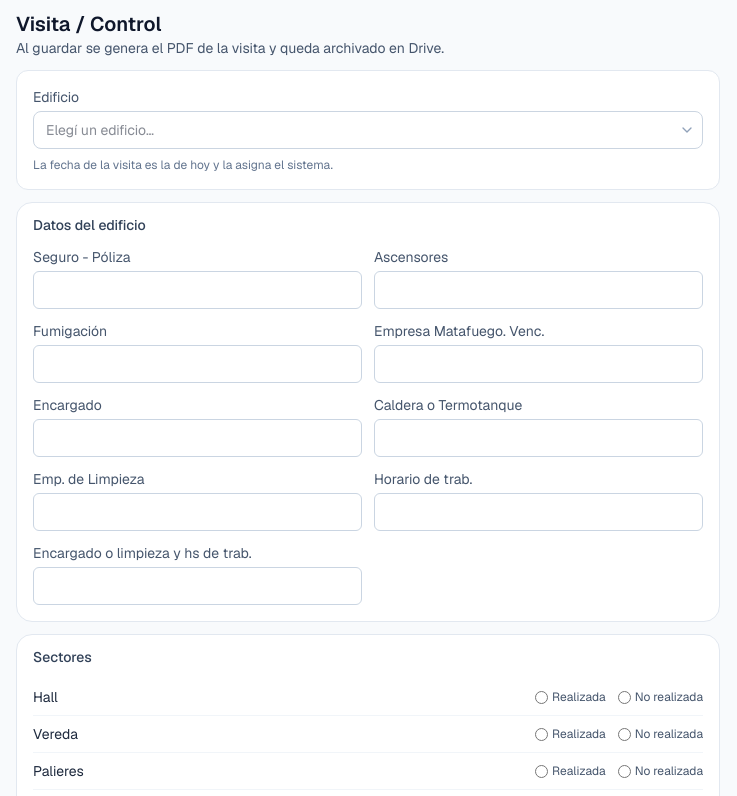
Test: VisitaForm › precarga la ficha al elegir el edificio
Click the dropdown labelled "Edificio". click: x=368, y=130
box: 33,111 -> 703,149
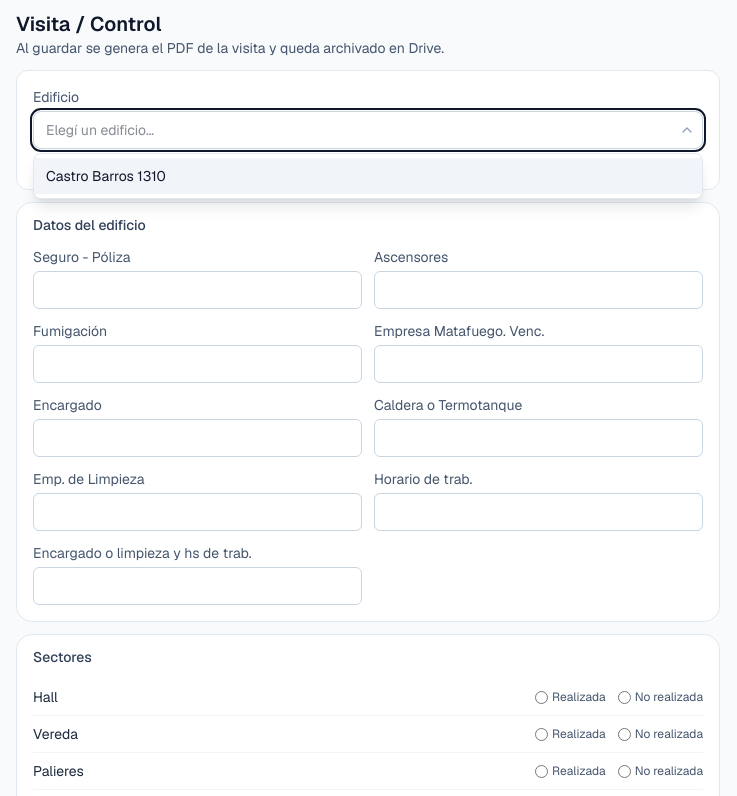
Click the option "Castro Barros 1310". click: x=106, y=176
box: 34,158 -> 702,194
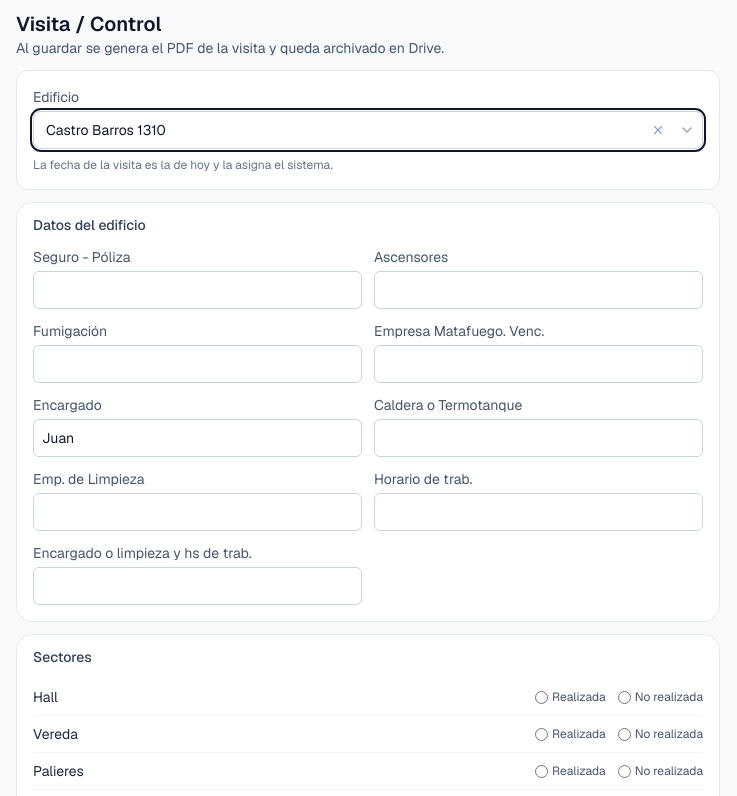
Expected: the field labelled "Encargado" holds "Juan", 33,419 -> 362,457
